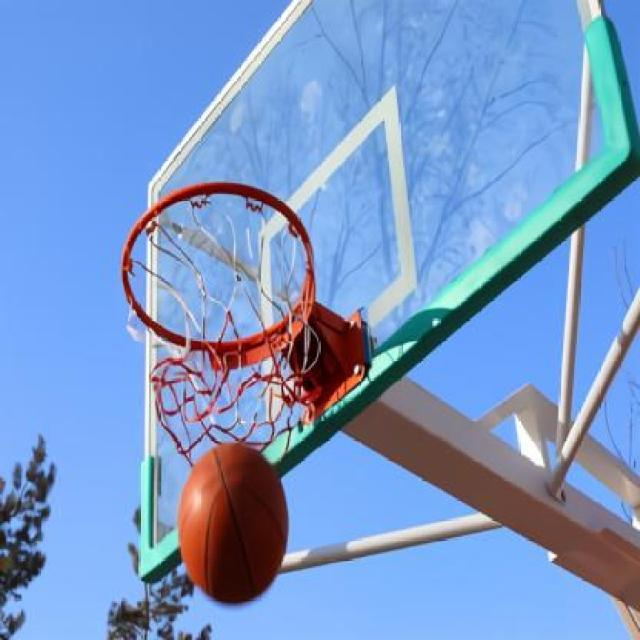basketball: (178, 442, 290, 602)
